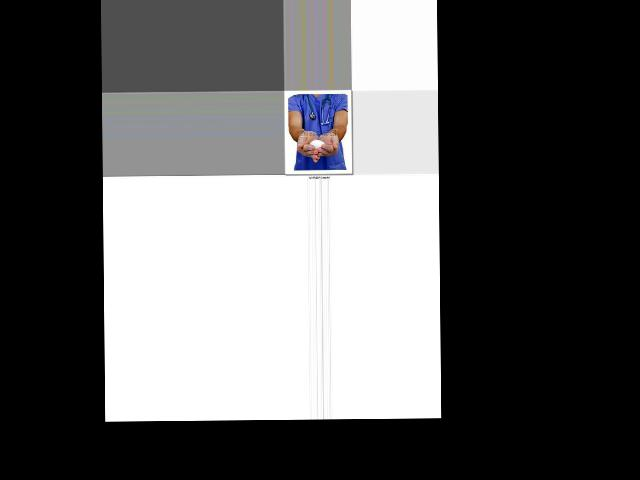egg: (310, 139, 325, 150)
